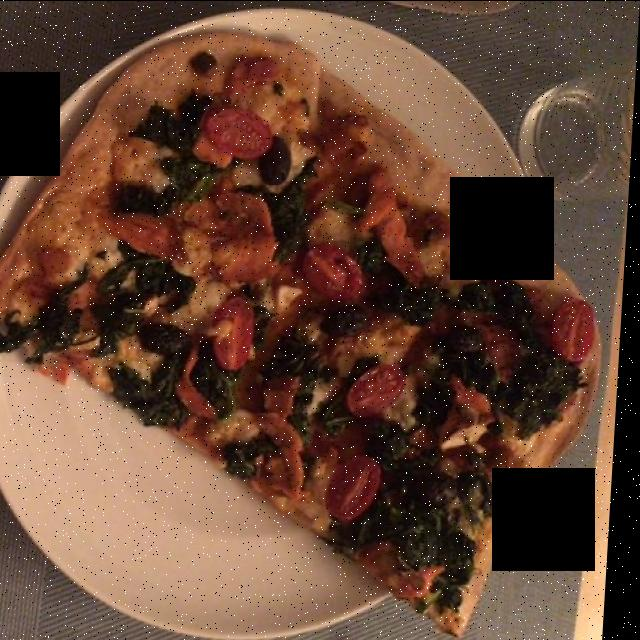black-olives: (148, 137, 489, 586)
pizza-with-vegetables-baked: (1, 43, 591, 621)
